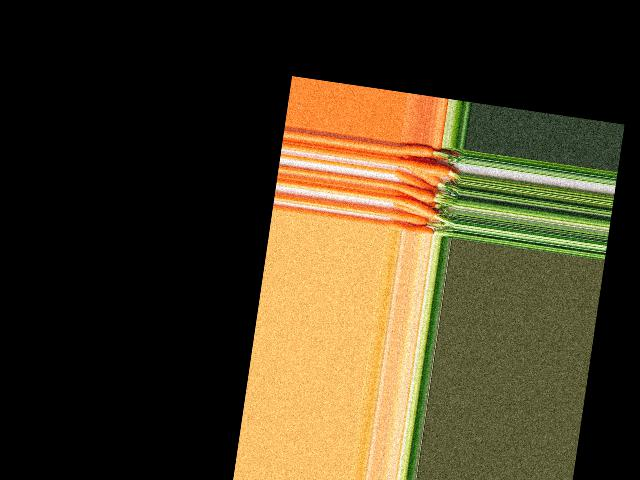carrot: (396, 140, 440, 159)
